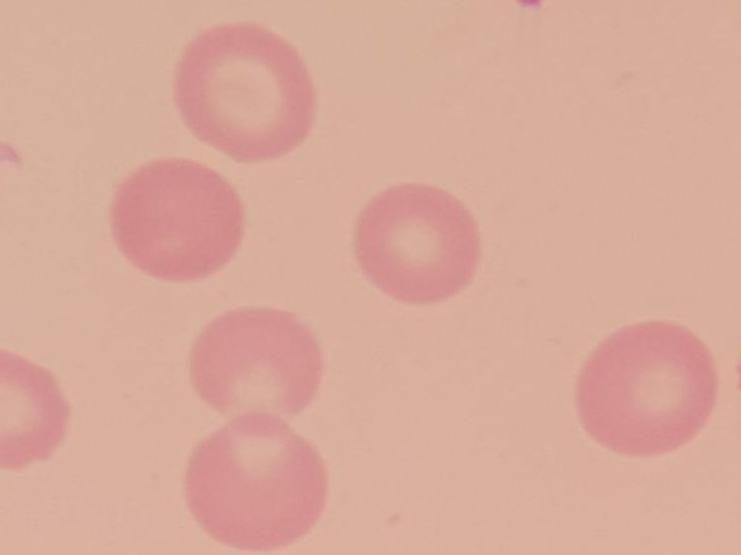Uninfected: (186, 408, 329, 552), (176, 22, 319, 164), (576, 320, 716, 458), (109, 159, 249, 283), (190, 303, 321, 432), (354, 182, 480, 310), (0, 350, 69, 473)
